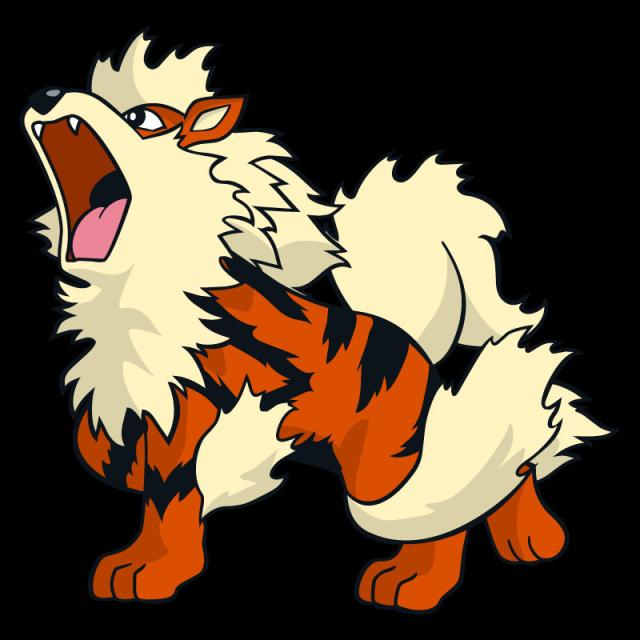Arcanine: (21, 39, 585, 607)
